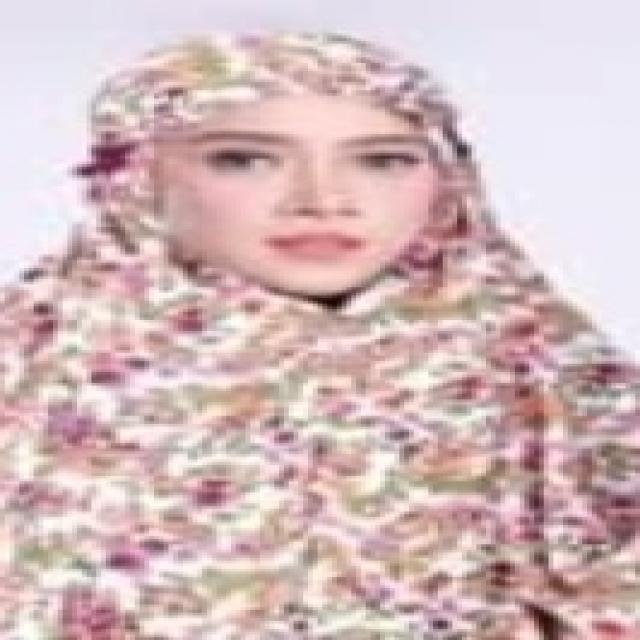head: (95, 41, 484, 299)
